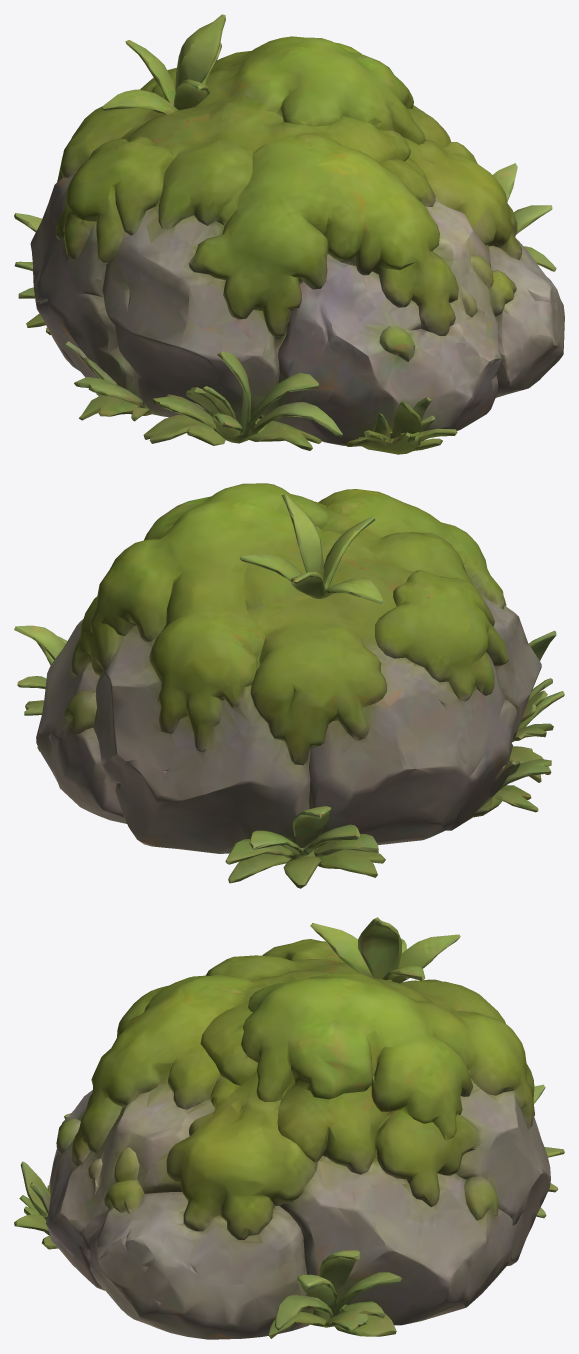
The model's file is roca_musgosa.glb.
The picture shows the model from 3 angles, top to bottom: view 1: azimuth 30°, elevation 25°; view 2: azimuth 150°, elevation 25°; view 3: azimuth 270°, elevation 25°; orthographic projection. The views are drawn at different scales.
Visible parts, largest first — view 1: roca_musgosa_malla; view 2: roca_musgosa_malla; view 3: roca_musgosa_malla.
Part boxes in pixels (left/top/right/bottom): roca_musgosa_malla: left=14, top=14, right=564, bottom=454; roca_musgosa_malla: left=14, top=483, right=564, bottom=888; roca_musgosa_malla: left=14, top=917, right=564, bottom=1339.
Bounding box in the file's own units: 0.4699 × 0.2934 × 0.4597.
Materials: 1 (1 with a texture image).
